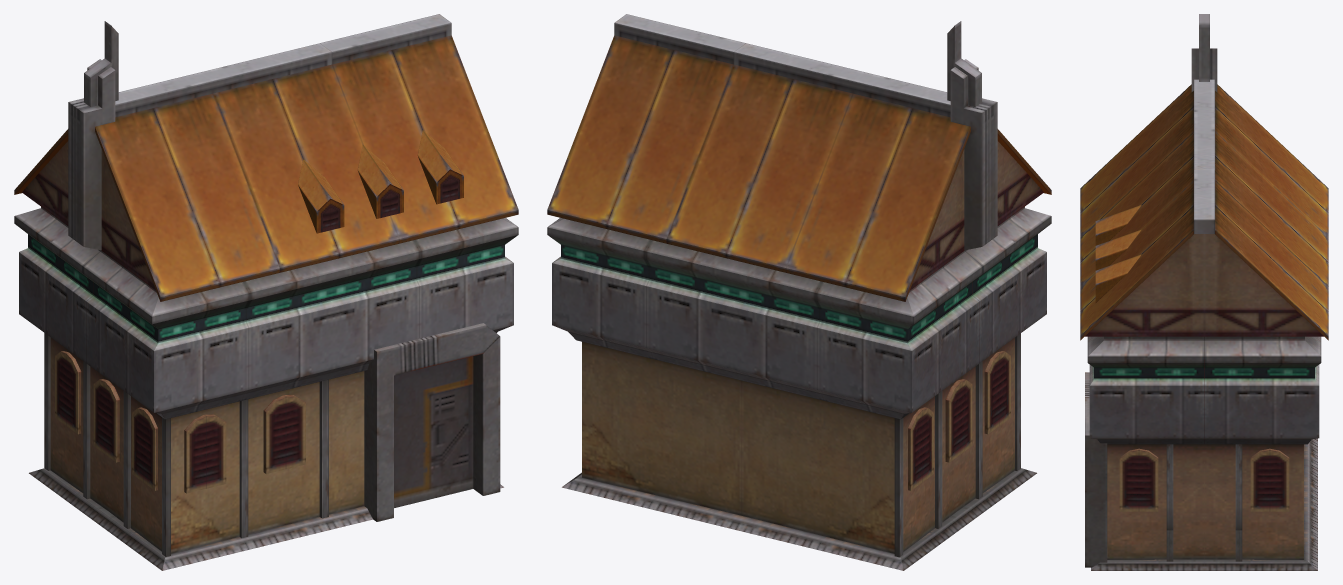
The model's file is zc_lekesigang_zhujian05.FBX.
3 renders of one model, left to right at view 1: azimuth 30°, elevation 25°; view 2: azimuth 150°, elevation 25°; view 3: azimuth 270°, elevation 25°, orthographic. The views are drawn at different scales.
Visible parts, largest first — view 1: zc_lekesigang_zhujian05; view 2: zc_lekesigang_zhujian05; view 3: zc_lekesigang_zhujian05.
Boxes of the visible parts, box(x1,y1,x2,y2) form: zc_lekesigang_zhujian05: box(14, 14, 518, 570); zc_lekesigang_zhujian05: box(547, 14, 1051, 570); zc_lekesigang_zhujian05: box(1080, 14, 1328, 570).
Bounding box in the file's own units: 997 × 1263 × 675.
